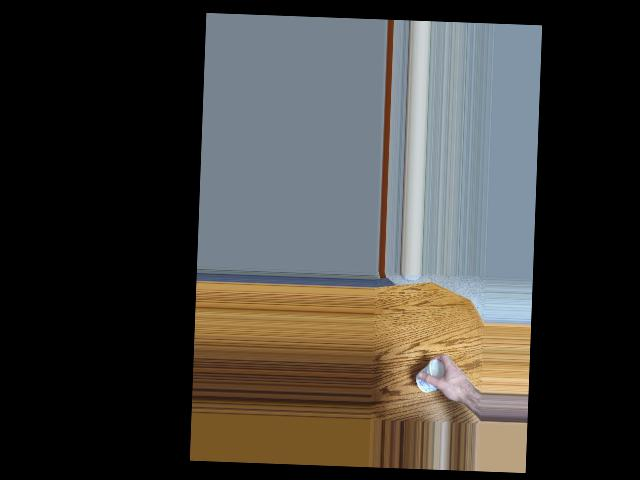cotage: (417, 357, 451, 396)
